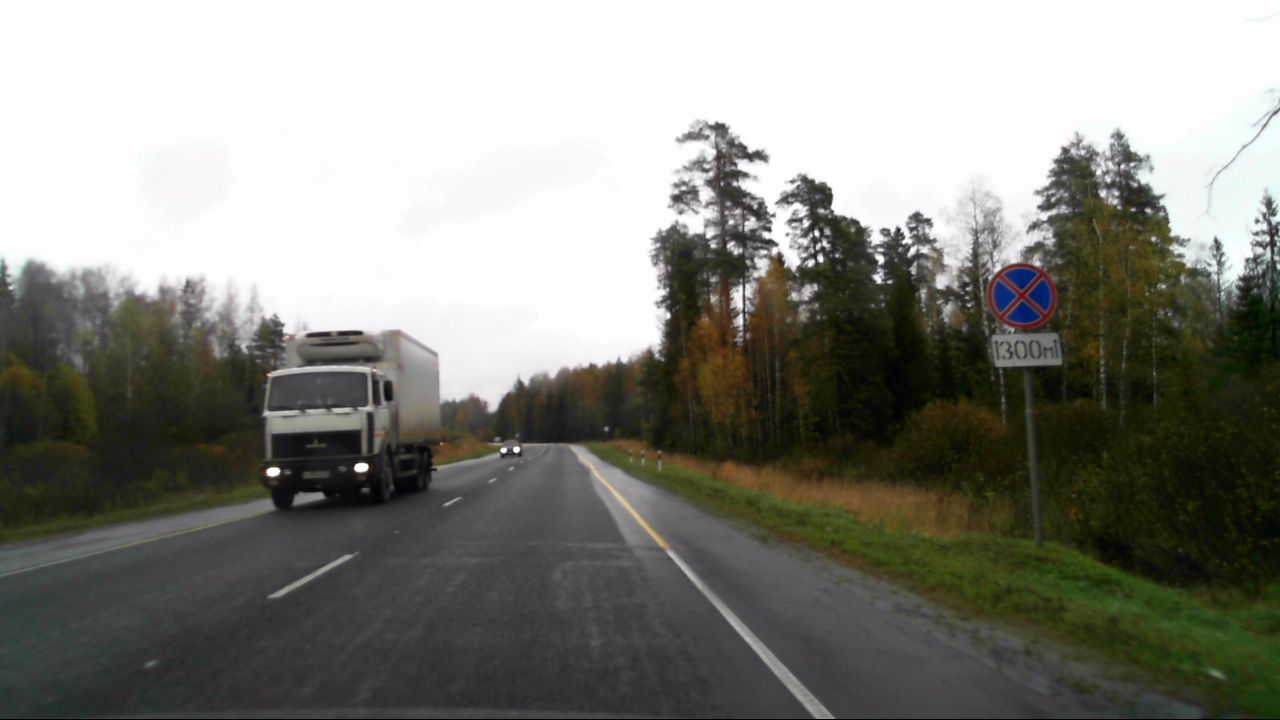No Parking: (987, 262, 1059, 330)
